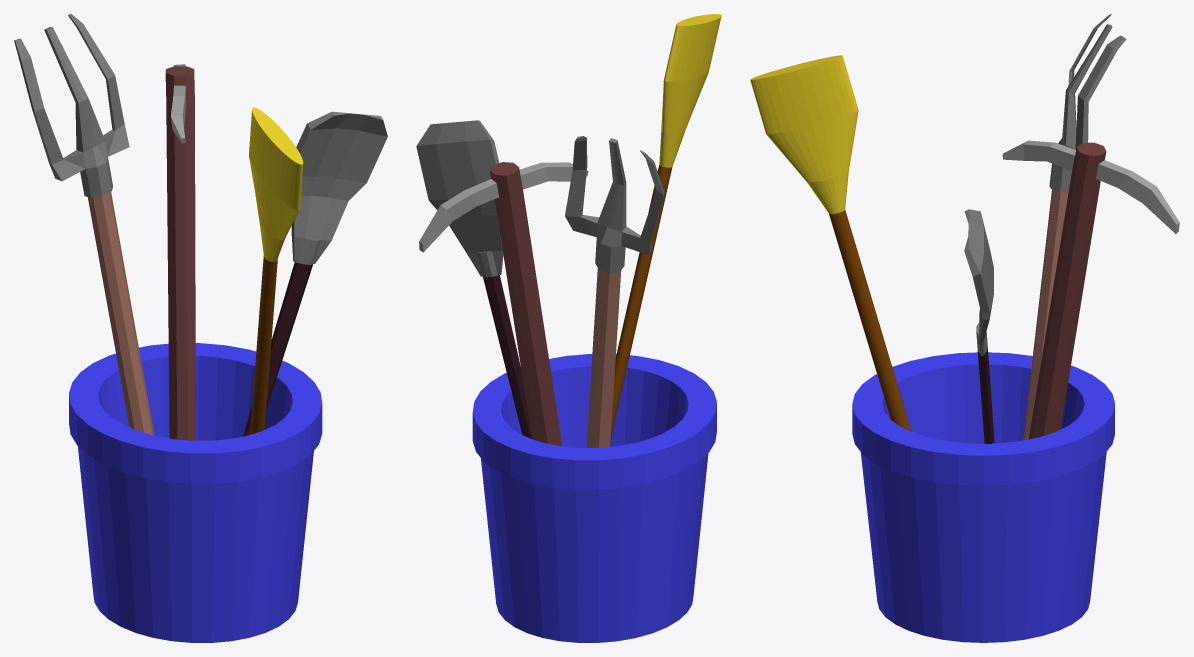
File: ToolBucket.fbx
3 renders of one model, left to right at view 1: azimuth 30°, elevation 25°; view 2: azimuth 150°, elevation 25°; view 3: azimuth 270°, elevation 25°, orthographic. The views are drawn at different scales.
Parts seen in each view (by area): view 1: ToolBucket; view 2: ToolBucket; view 3: ToolBucket.
Part boxes in pixels (left/top/right/bottom): ToolBucket: left=14, top=14, right=387, bottom=642; ToolBucket: left=416, top=14, right=721, bottom=642; ToolBucket: left=750, top=14, right=1179, bottom=642.
Size of the model in its own units: 2.02 by 3.46 by 2.5.
